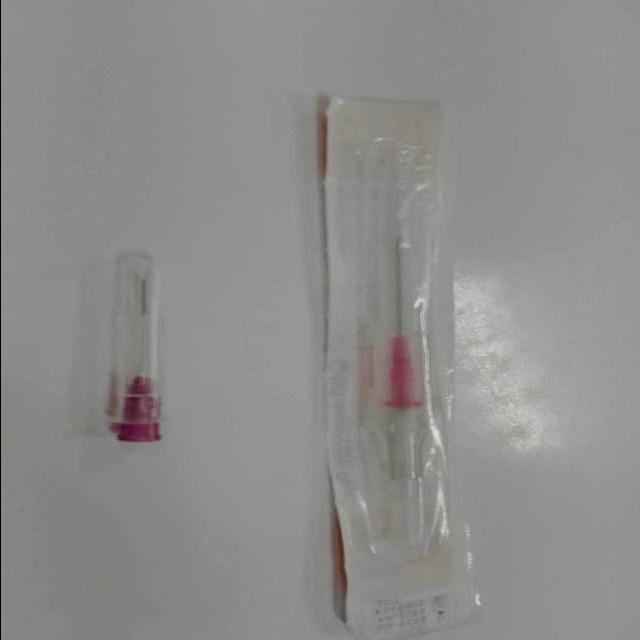Pathological: (319, 92, 485, 637)
Sharps: (105, 251, 165, 443)
